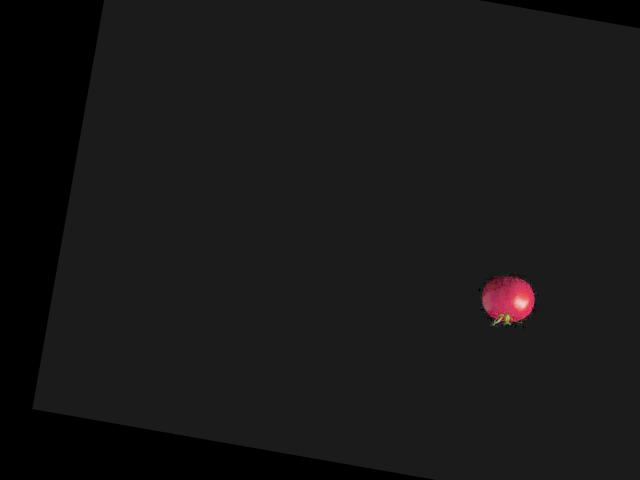tomato: (478, 272, 537, 325)
